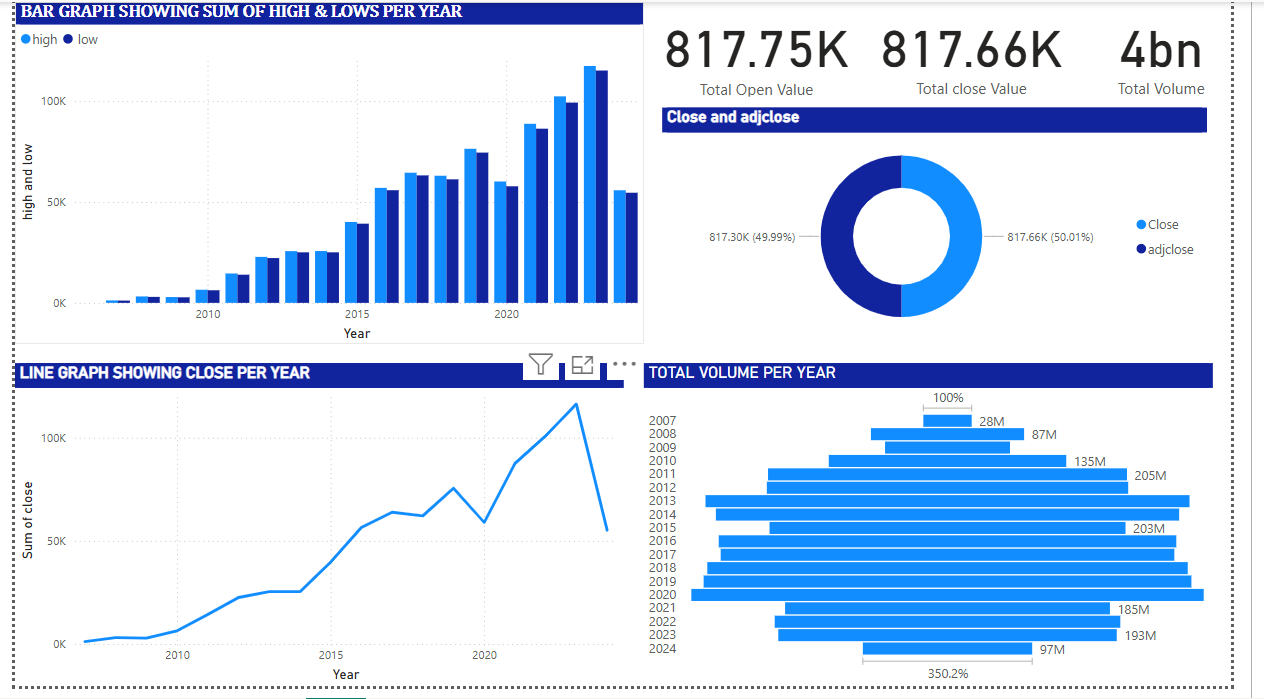

Layout of this report page (visuals, bound fields, positions):
{"tool":"powerbi","page":{"name":"Page 1","canvas":[1280,720],"ordinal":0},"visuals":[{"type":"card","title":"SUM OF HIGH AND LOW PER YEAR","fields":{"Values":["Sum(ULTA_stock_data.volume)"]},"box":[1131.7,0,148.1,104.6],"z":1000},{"type":"lineChart","title":"LINE GRAPH SHOWING CLOSE PER YEAR","fields":{"Category":["ULTA_stock_data.Date.Variation.Date Hierarchy.Year"],"Y":["Sum(ULTA_stock_data.close)"]},"box":[0,379.9,640.7,339.7],"z":2000},{"type":"clusteredColumnChart","title":"BAR GRAPH SHOWING SUM OF HIGH & LOWS PER YEAR","fields":{"Category":["ULTA_stock_data.Date.Variation.Date Hierarchy.Year"],"Y":["Sum(ULTA_stock_data.high)","Sum(ULTA_stock_data.low)"]},"box":[0,0,661.6,360.6],"z":3000},{"type":"funnel","title":"TOTAL VOLUME PER YEAR","fields":{"Category":["ULTA_stock_data.Date.Variation.Date Hierarchy.Year"],"Y":["Sum(ULTA_stock_data.volume)"]},"box":[661.6,379.9,598.8,339.7],"z":4000},{"type":"donutChart","fields":{"Y":["Sum(ULTA_stock_data.close)","Sum(ULTA_stock_data.adjclose)"]},"box":[680.9,111.1,573.1,249.5],"z":4001},{"type":"card","fields":{"Values":["Sum(ULTA_stock_data.close)"]},"box":[891.8,0,228.6,104.6],"z":4002},{"type":"card","fields":{"Values":["Sum(ULTA_stock_data.open)"]},"box":[668.1,1.6,223.8,103],"z":4003}]}

Visuals, with their boxes in screenshot pixels (x1, y1, x2, y2), scaled from the page's 1280x720 canvas onto the 1264x699 screenshot:
"SUM OF HIGH AND LOW PER YEAR" card: region(1118, 0, 1263, 102)
"LINE GRAPH SHOWING CLOSE PER YEAR" lineChart: region(0, 369, 633, 698)
"BAR GRAPH SHOWING SUM OF HIGH & LOWS PER YEAR" clusteredColumnChart: region(0, 0, 653, 350)
"TOTAL VOLUME PER YEAR" funnel: region(653, 369, 1245, 698)
donutChart - Sum(ULTA_stock_data.close) x Sum(ULTA_stock_data.adjclose): region(672, 108, 1238, 350)
card - Sum(ULTA_stock_data.close): region(881, 0, 1106, 102)
card - Sum(ULTA_stock_data.open): region(660, 2, 881, 102)
